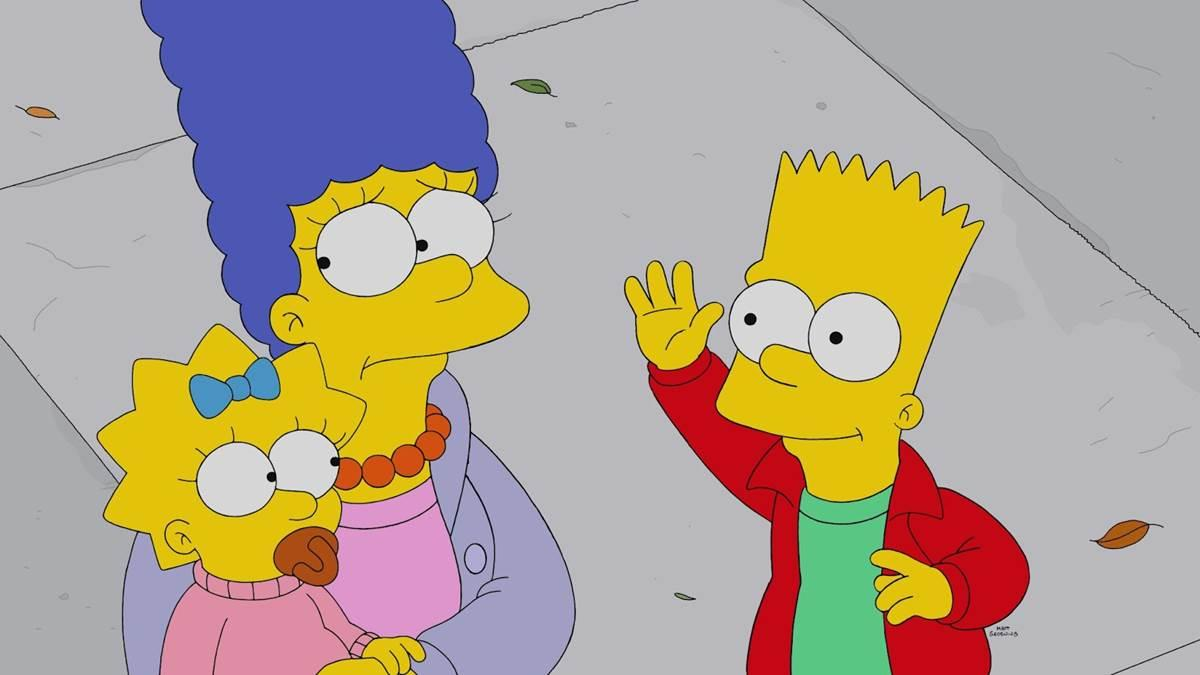Bart: (610, 139, 1063, 675)
Maggie: (51, 352, 465, 675)
Marge: (120, 0, 579, 435)
